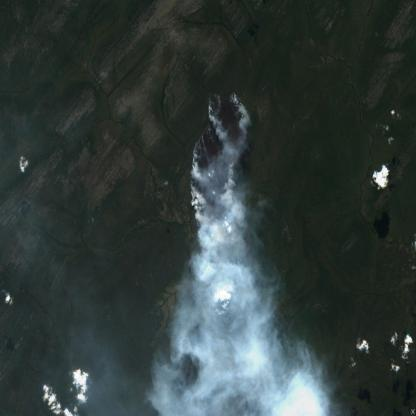fire: (189, 90, 251, 256)
